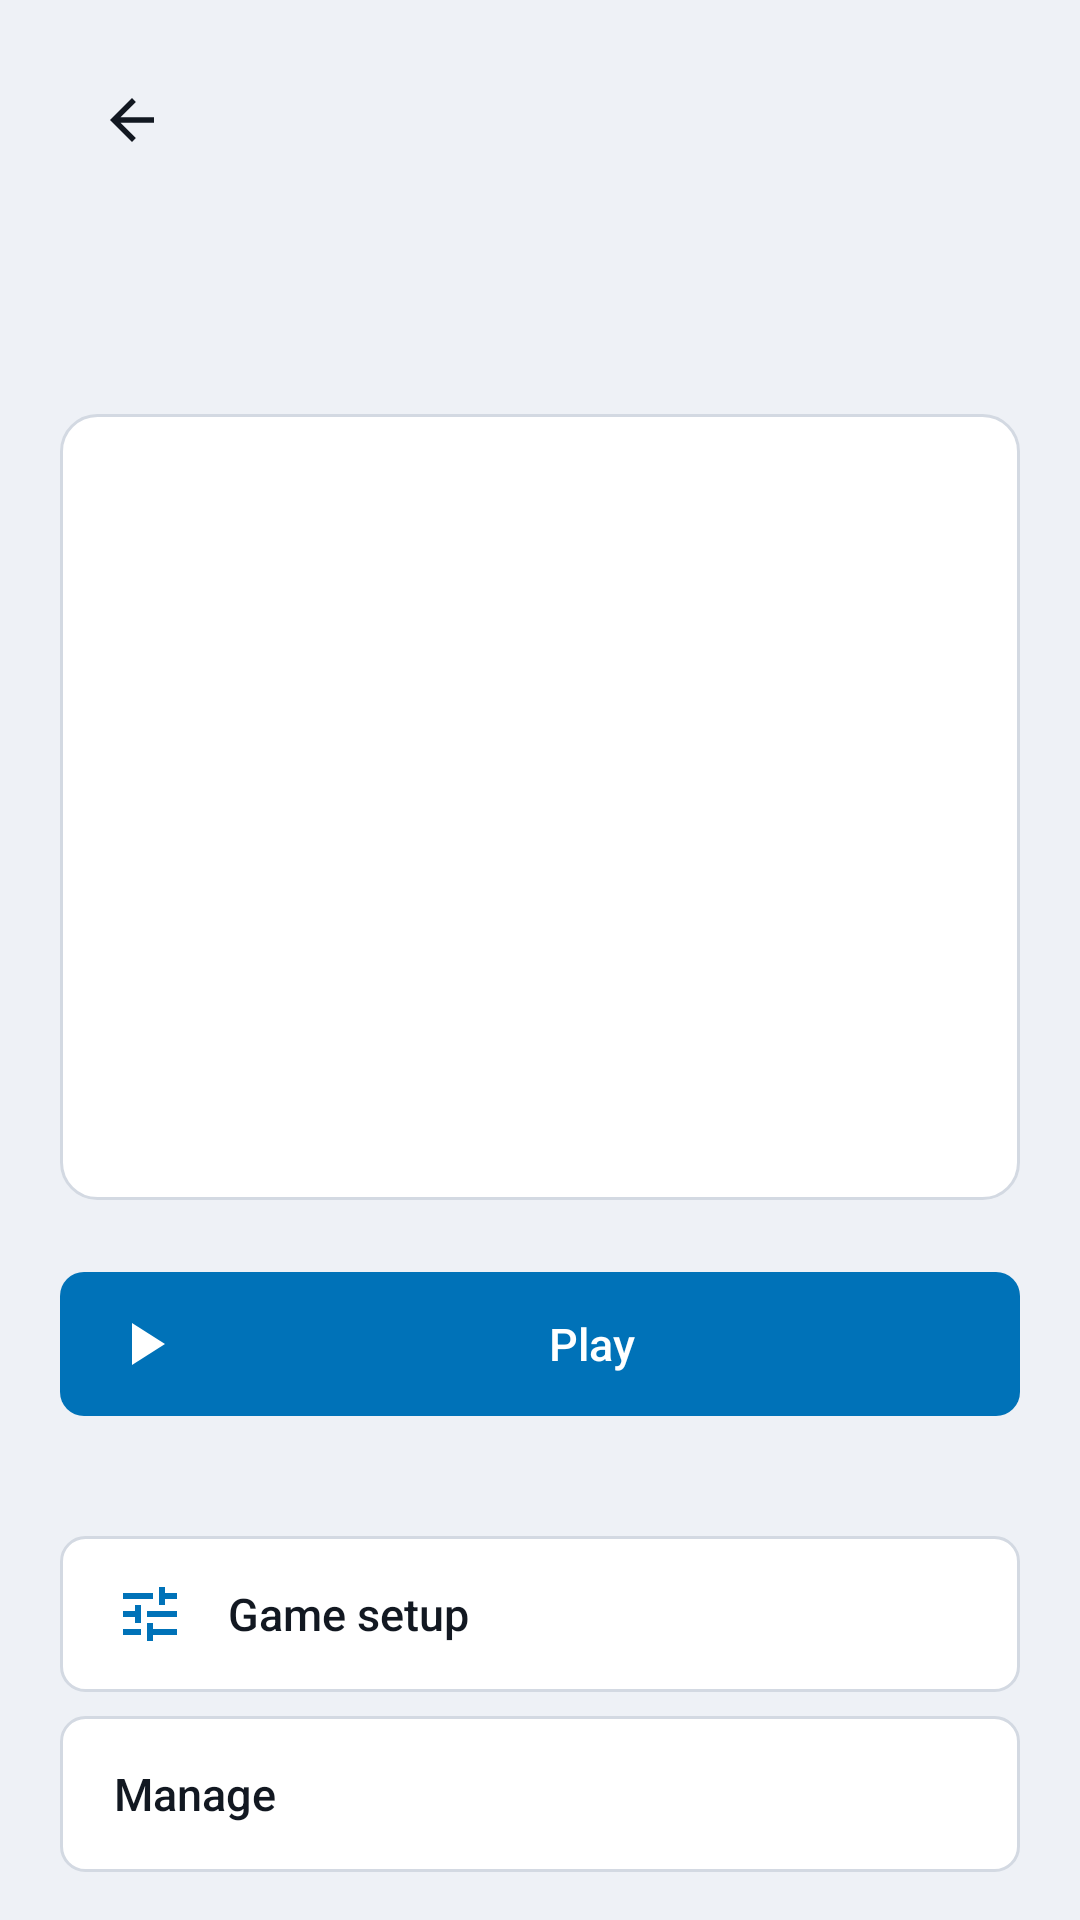

Locate icon controls on the screen. Image size 1080px×1920px, boxes as (x1, y1, x2, y2).
Back: (110, 98, 154, 142)
